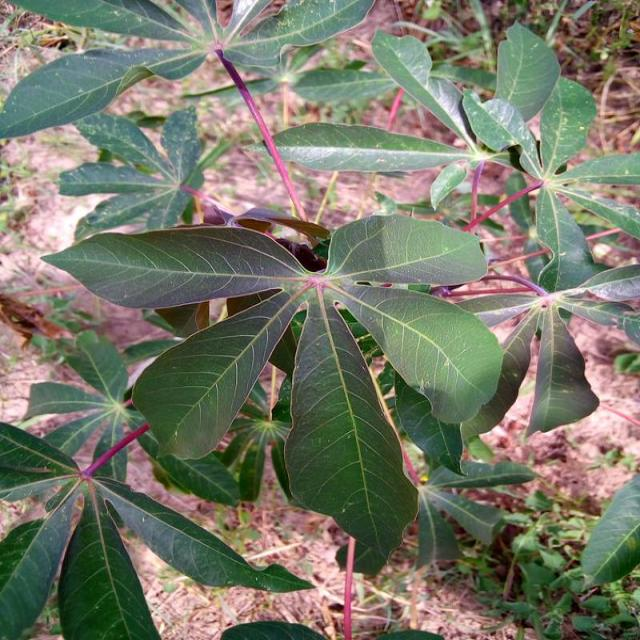cassava leaf: (41, 209, 504, 576), (282, 289, 419, 576), (39, 223, 309, 309)
